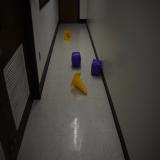cone: (70, 72, 88, 95), (64, 31, 71, 41)
cube: (91, 59, 102, 77), (71, 52, 81, 68)
